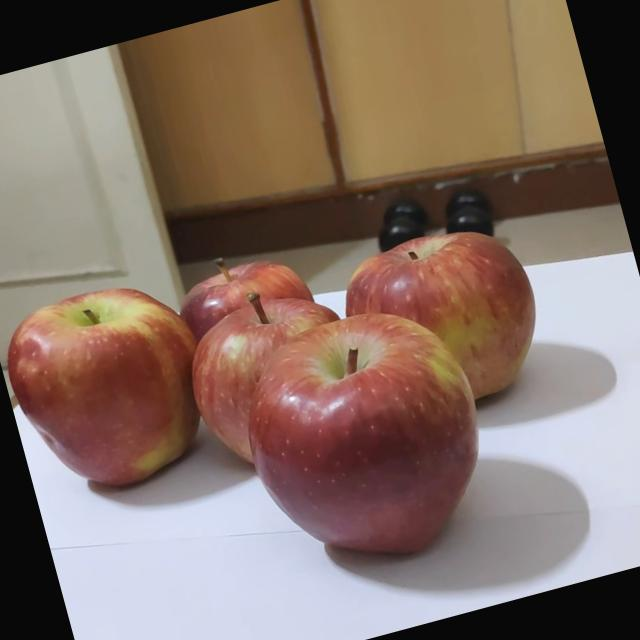apple: (208, 294, 497, 593), (341, 203, 578, 434), (18, 265, 248, 500), (180, 268, 384, 472), (189, 234, 361, 402)
